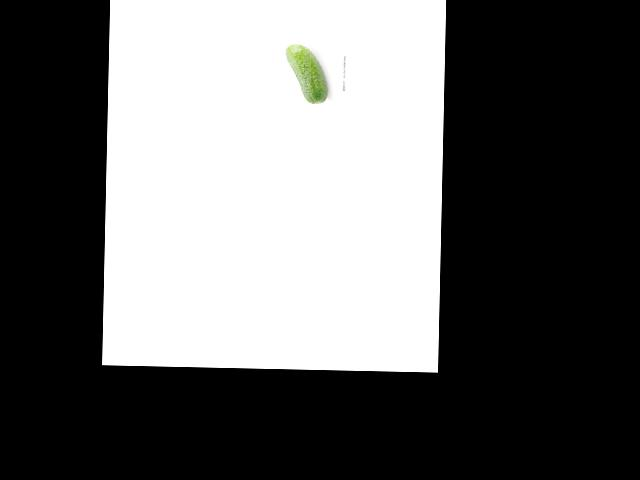cucumber: (284, 44, 329, 104)
